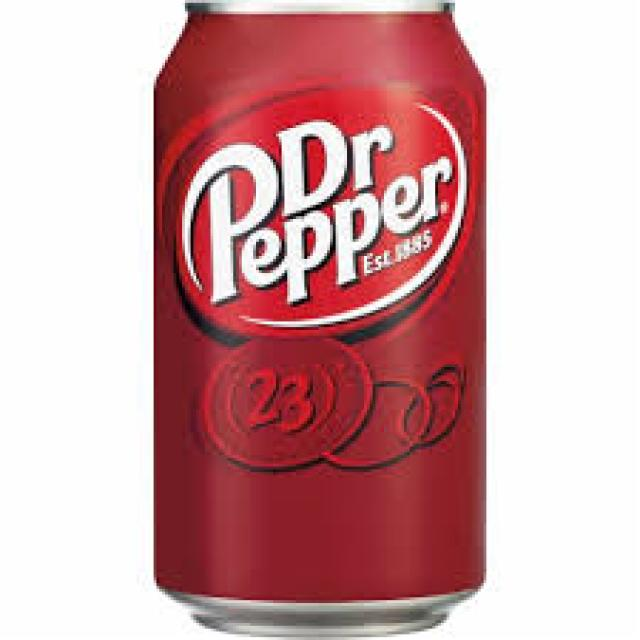Cans: (134, 3, 515, 637)
